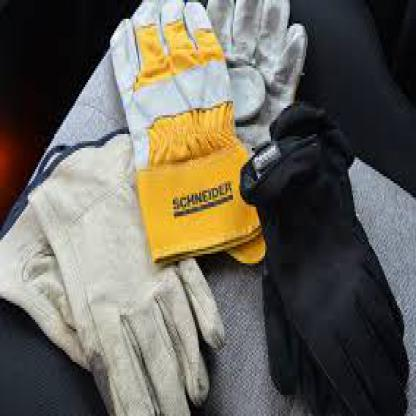glove: (242, 134, 412, 414)
